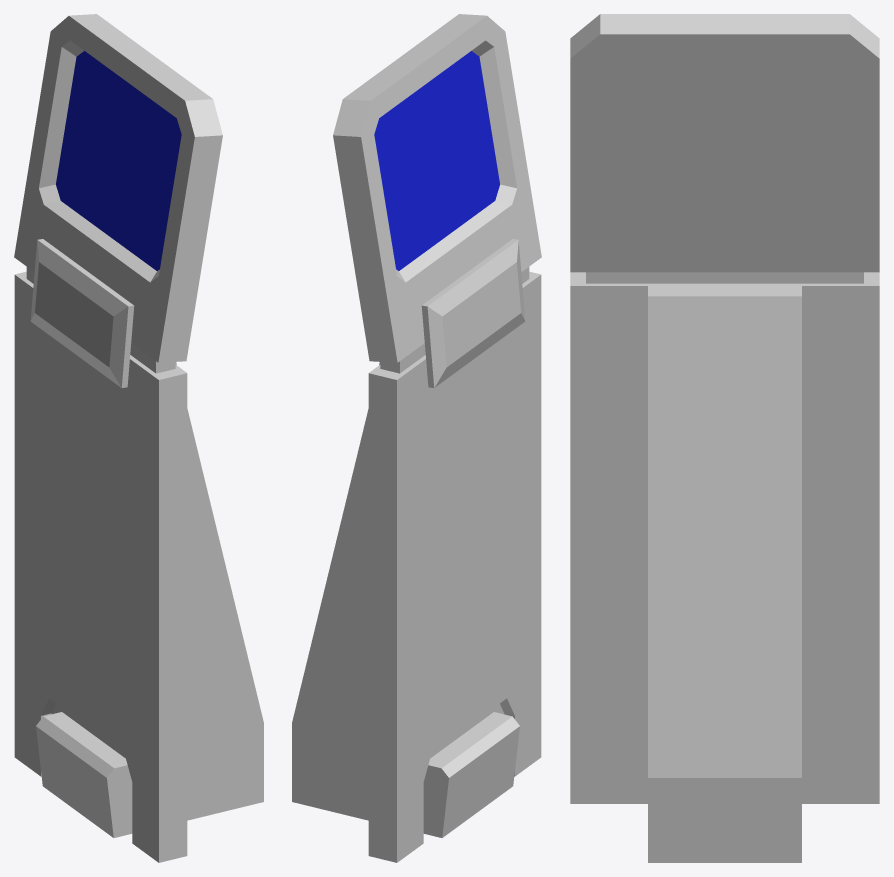
File: info_panel.fbx
3 views of the same model, side by side, from view 1: azimuth 30°, elevation 25°; view 2: azimuth 150°, elevation 25°; view 3: azimuth 270°, elevation 25° (orthographic). The views are drawn at different scales.
Parts seen in each view (by area): view 1: Cube; view 2: Cube; view 3: Cube.
Part boxes in pixels (x1,y1,x2,y2): Cube: [14, 14, 263, 862]; Cube: [292, 14, 541, 862]; Cube: [570, 14, 879, 862].
Size of the model in its own units: 32.92 by 149 by 52.54.
